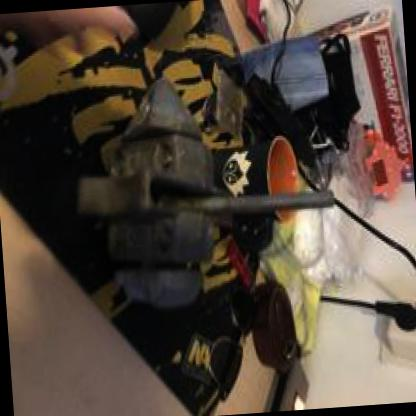Twistlock: (73, 48, 364, 324)
